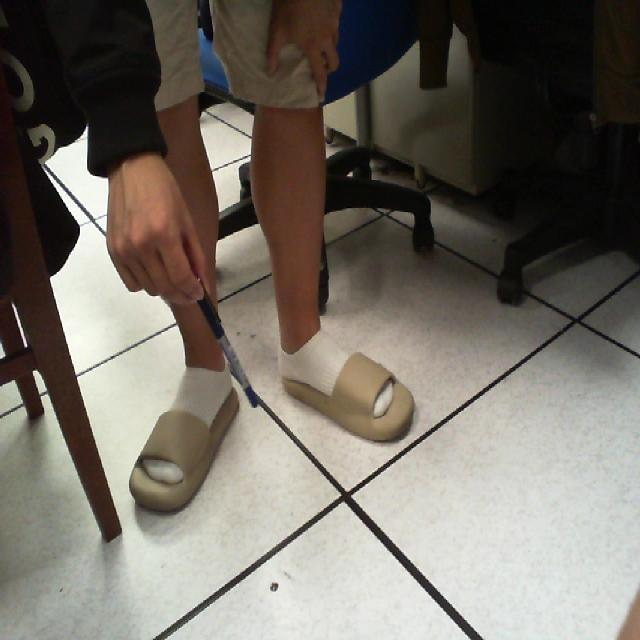Pen: (180, 266, 274, 431)
